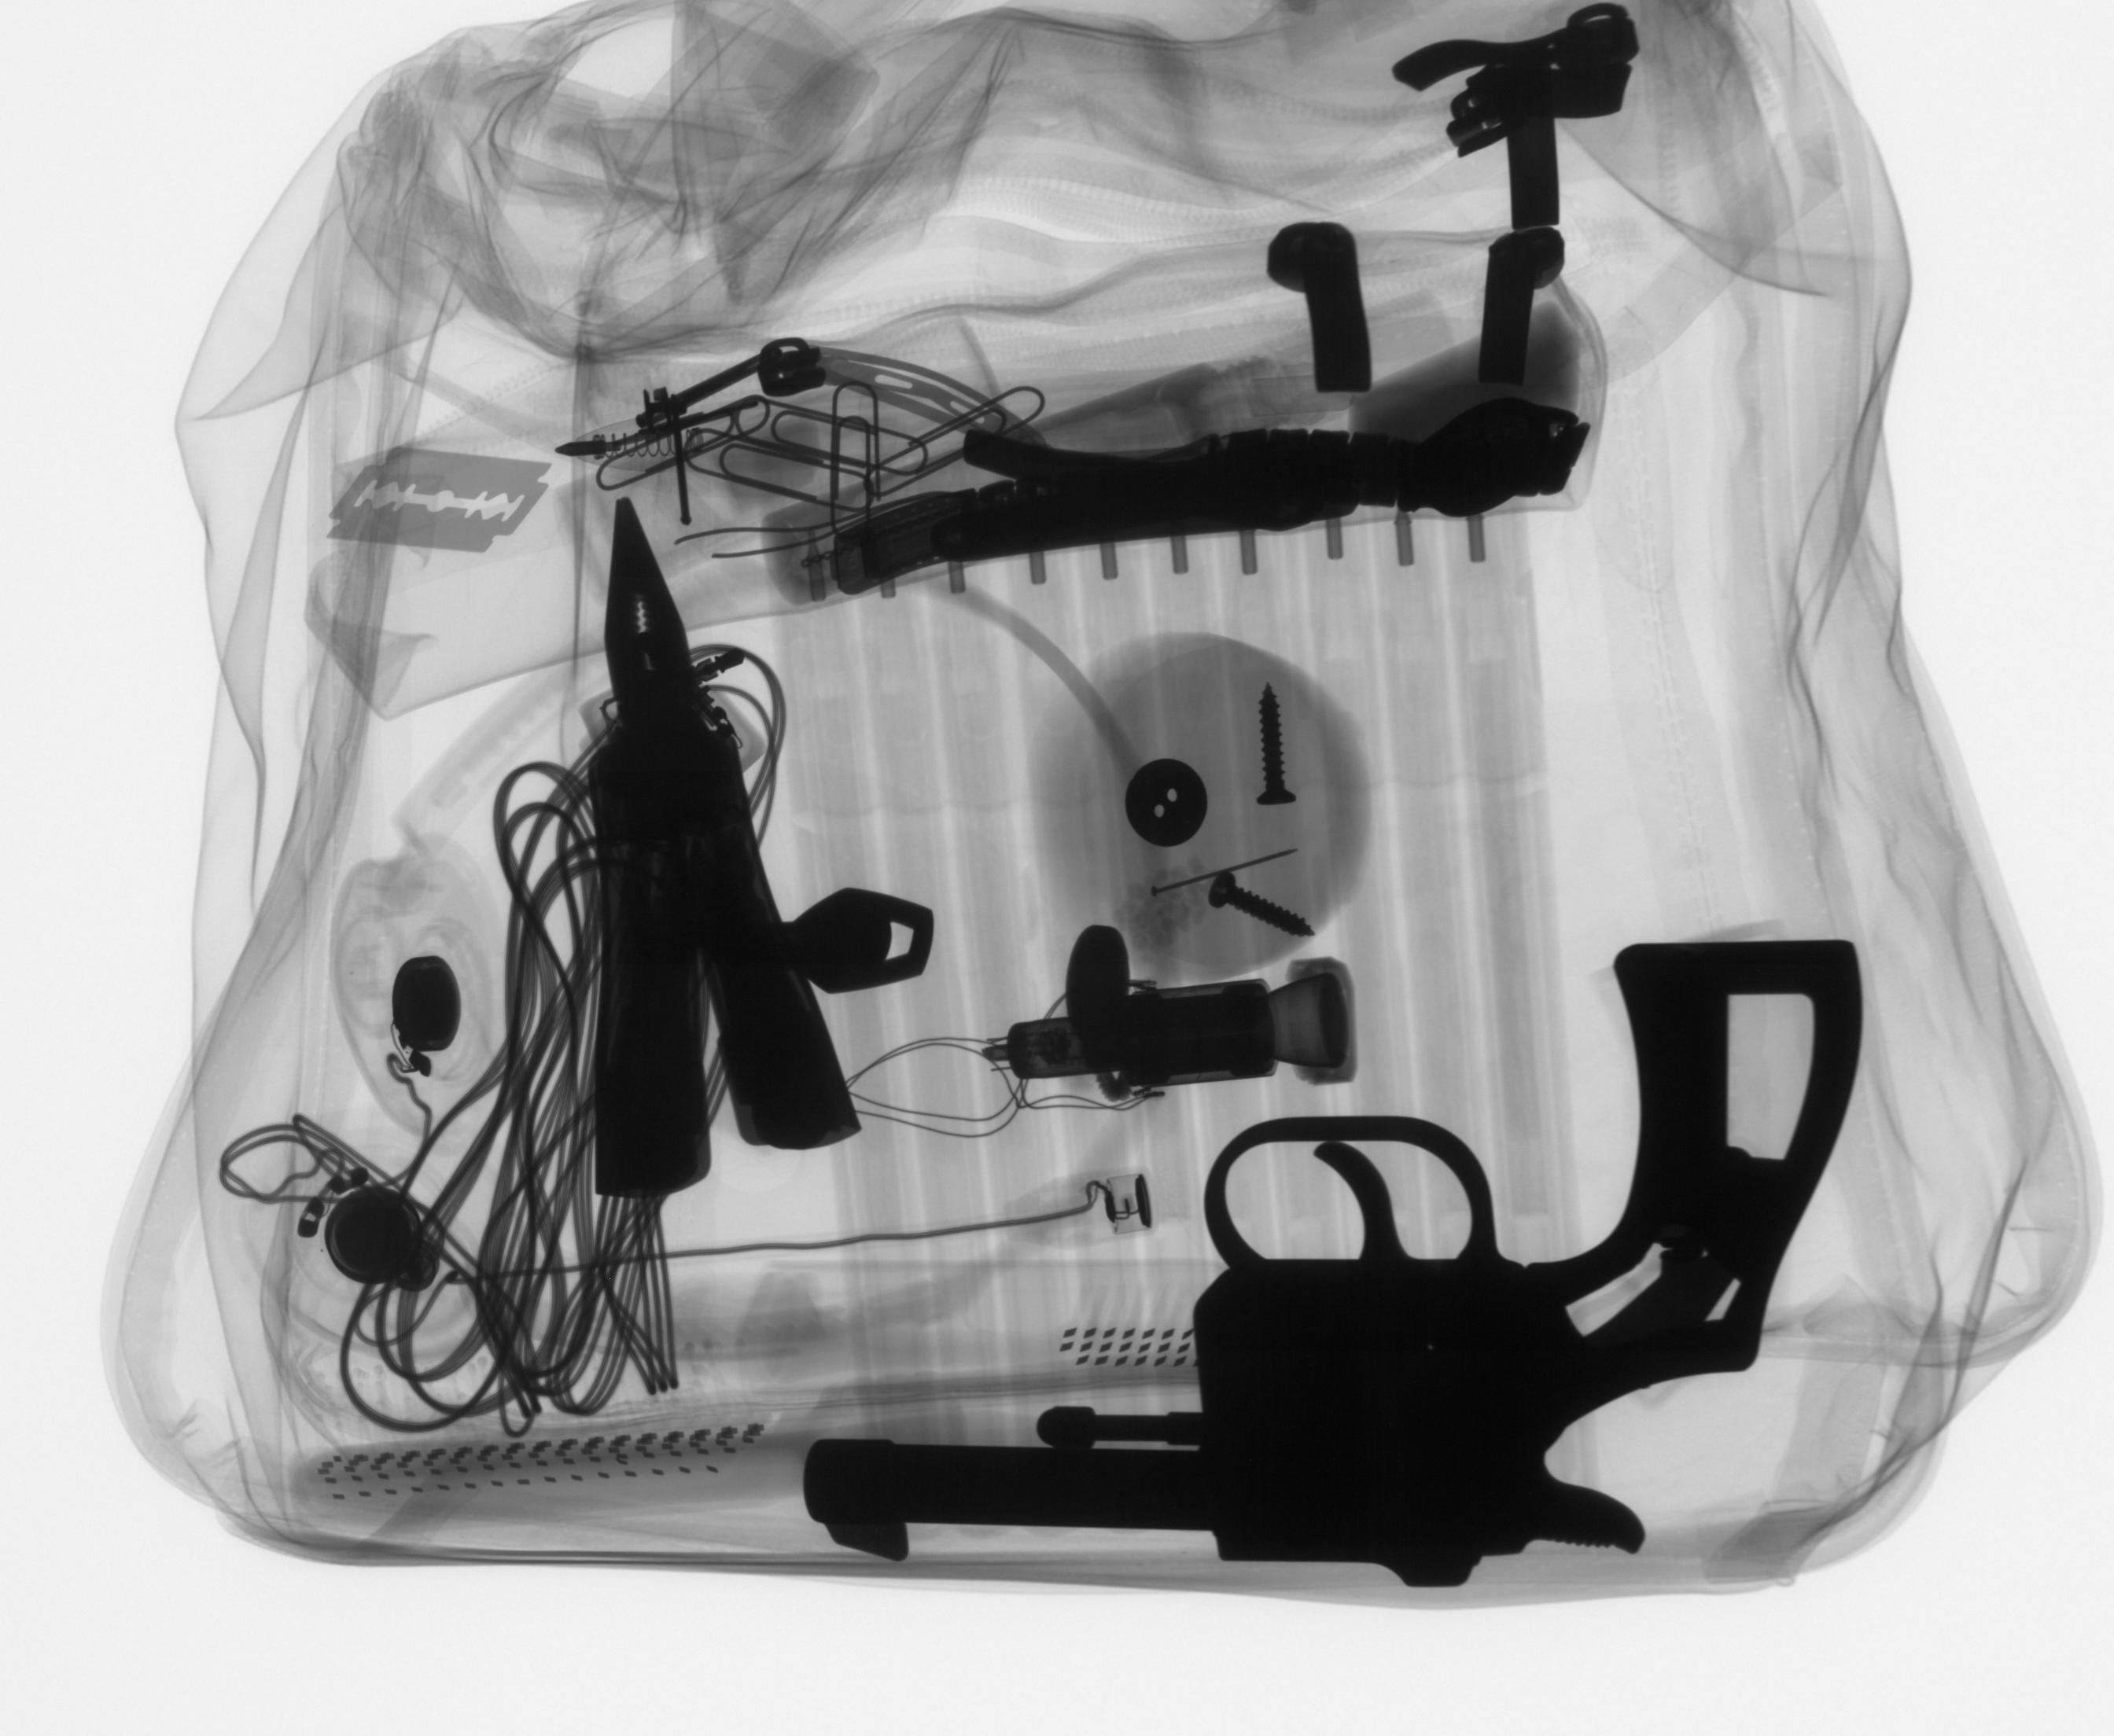Handgun: (792, 930, 1873, 1596)
RazorBlade: (318, 439, 558, 560)
